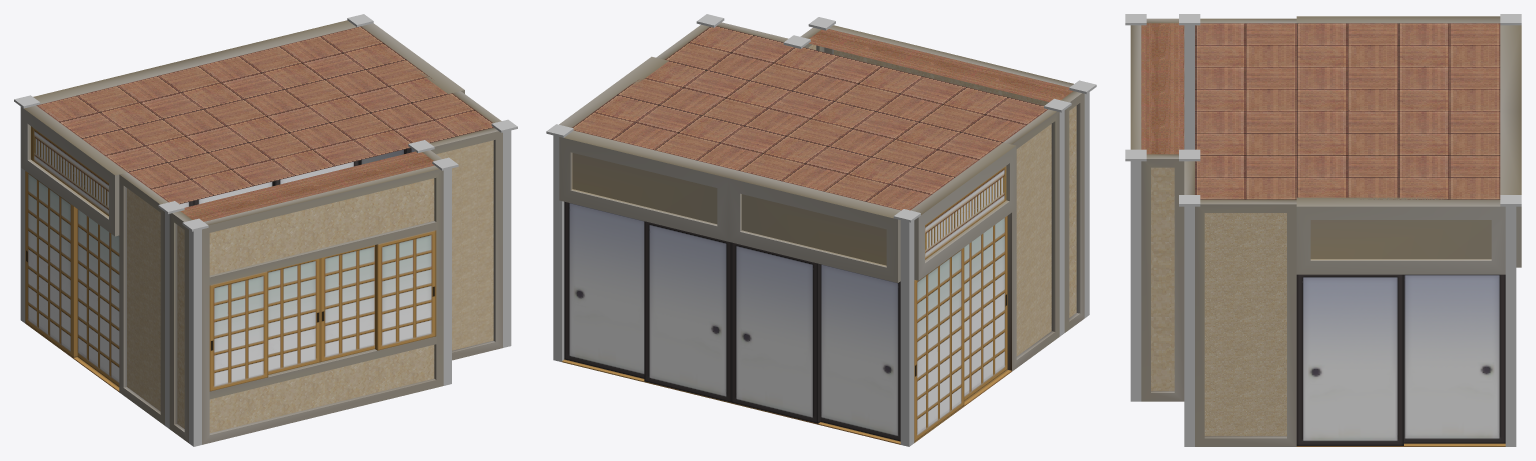
Rendered from Sample_livingroom_6jyo.fbx.
3 views of the same model, side by side, from view 1: azimuth 30°, elevation 25°; view 2: azimuth 150°, elevation 25°; view 3: azimuth 270°, elevation 25° (orthographic). The views are drawn at different scales.
Visible parts, largest first — view 1: tenjyo01 (×2), tutikabe01, husuma02, husuma010, door1, door03, door04, door2, door01, door02, husuma01, hashira018 (+5 smaller); view 2: tenjyo01 (×2), husuma01, door1 (×2), husuma02, door2 (×2), door3, door4, tutikabe01, hashira02, hashira01, husuma03, hashira03 (+1 smaller); view 3: tenjyo01 (×2), husuma03, door2, door1, tutikabe01, husuma01, hashira017, hashira01, hashira04, husuma02, hashira03.
Boxes of the visible parts, <box> form: tenjyo01 (×2): <box>36,26,493,221</box>; tutikabe01: <box>169,150,443,444</box>; husuma02: <box>21,105,168,425</box>; husuma010: <box>430,127,502,360</box>; door1: <box>25,171,77,357</box>; door03: <box>375,230,436,350</box>; door04: <box>209,271,268,391</box>; door2: <box>77,209,119,386</box>; door01: <box>320,245,374,361</box>; door02: <box>268,258,320,374</box>; husuma01: <box>33,20,356,104</box>; hashira018: <box>182,218,208,446</box>; tenjyo01 (×2): <box>572,26,1072,210</box>; husuma01: <box>559,130,900,444</box>; door1 (×2): <box>731,242,964,441</box>; husuma02: <box>906,109,1059,442</box>; door2 (×2): <box>820,216,1007,441</box>; door3: <box>644,221,731,402</box>; door4: <box>564,201,644,378</box>; tutikabe01: <box>800,25,1084,332</box>; hashira02: <box>893,209,920,446</box>; hashira01: <box>546,124,573,361</box>; husuma03: <box>559,24,709,127</box>; hashira03: <box>1044,98,1071,336</box>; tenjyo01 (×2): <box>1141,23,1500,199</box>; husuma03: <box>1195,197,1505,446</box>; door2: <box>1296,274,1403,445</box>; door1: <box>1404,274,1505,443</box>; tutikabe01: <box>1130,18,1184,401</box>; husuma01: <box>1500,25,1521,267</box>; hashira017: <box>1125,149,1146,401</box>; hashira01: <box>1500,195,1521,446</box>; hashira04: <box>1179,195,1200,446</box>; husuma02: <box>1200,16,1500,23</box>; hashira03: <box>1179,14,1200,149</box>.
Size of the model in its own units: 840 by 505 by 740.
